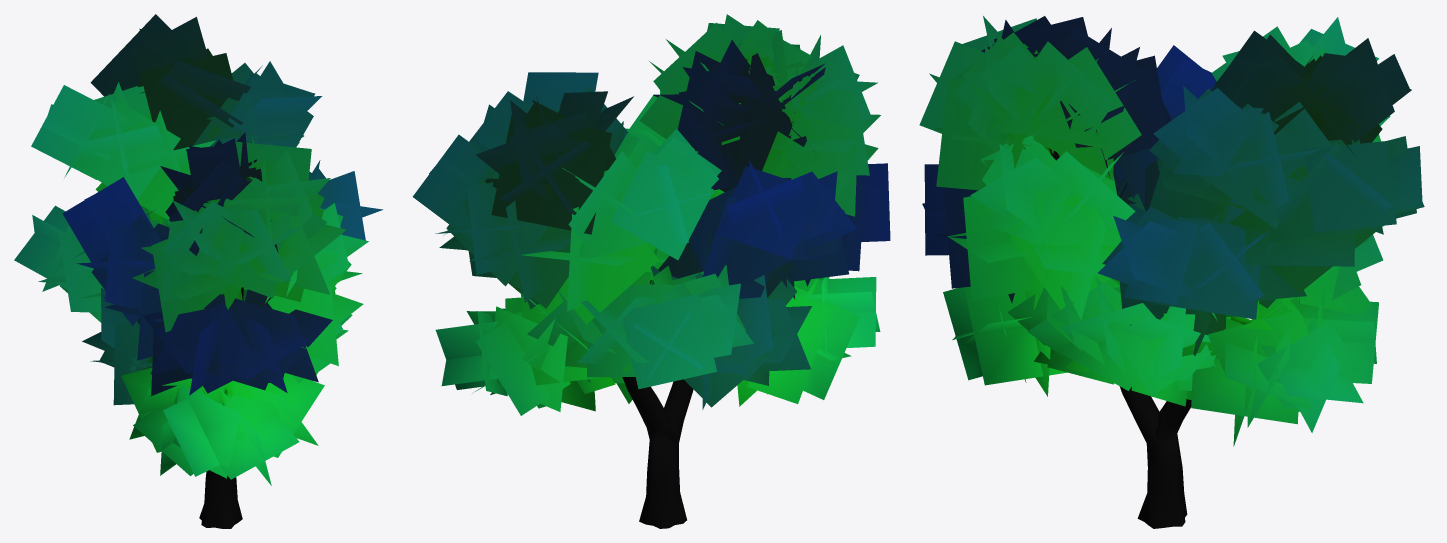
Rendered from Tree3_v3_1.fbx.
3 views of the same model, side by side, from view 1: azimuth 30°, elevation 25°; view 2: azimuth 150°, elevation 25°; view 3: azimuth 270°, elevation 25° (orthographic). The views are drawn at different scales.
Parts seen in each view (by area): view 1: Tree_1, Tree_0; view 2: Tree_1, Tree_0; view 3: Tree_1, Tree_0.
Boxes of the visible parts, x1=… form: Tree_1: x1=14, y1=14, x2=382, y2=485; Tree_0: x1=199, y1=287, x2=243, y2=528; Tree_1: x1=412, y1=14, x2=890, y2=415; Tree_0: x1=622, y1=377, x2=693, y2=528; Tree_1: x1=919, y1=16, x2=1424, y2=446; Tree_0: x1=1046, y1=147, x2=1251, y2=528.
Bounding box in the file's own units: 411 × 561 × 530.
